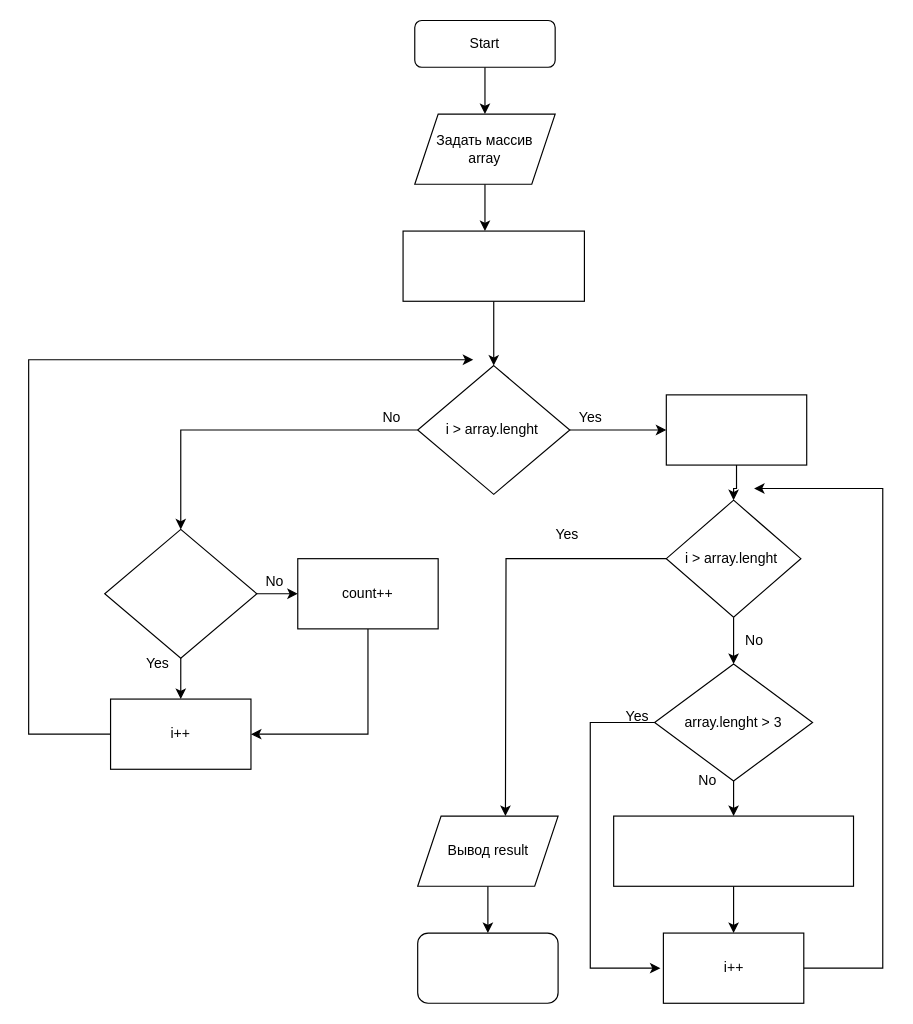
Image size: 913x1024. Some labels were removed from this diagram. The shapes that lost their labels are listed below. From the top down, each one's centre as x and y in pixels, then its label:
[493,265]: count = 0 i = 0
[736,429]: string[] result = new string[count] i = 0
[180,593]: array[i].lenght > 3
[733,850]: result [result.lenght - count] = array[i] count--
[487,967]: End
